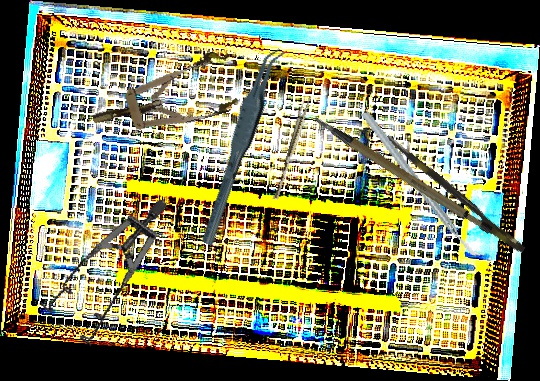Chopper: (360, 92, 487, 277)
Scalpel Handle: (312, 90, 495, 256)
Speculum: (21, 197, 203, 358), (84, 47, 244, 149)
Tissue Forceps: (179, 44, 304, 247), (372, 133, 528, 267), (272, 94, 312, 202)
